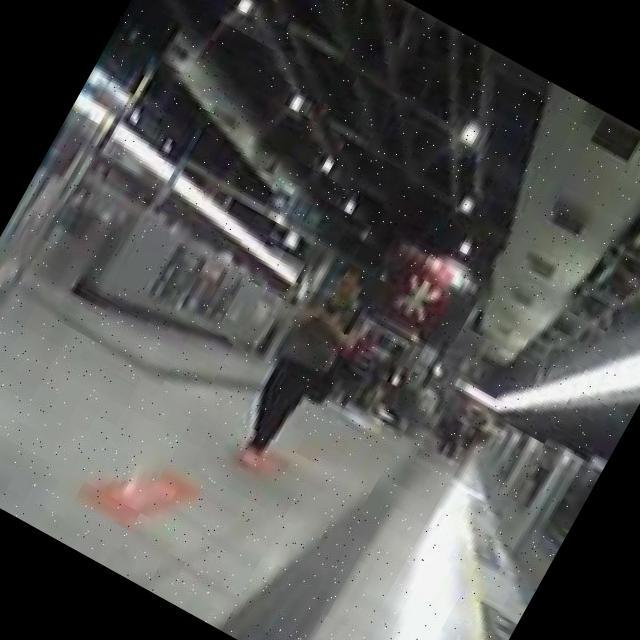person: (218, 250, 388, 476), (322, 326, 388, 412), (349, 338, 409, 420)
